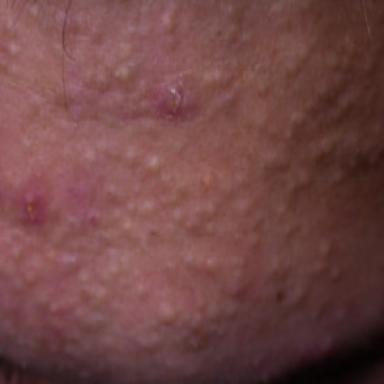acne: (151, 75, 197, 121), (13, 172, 48, 226)
